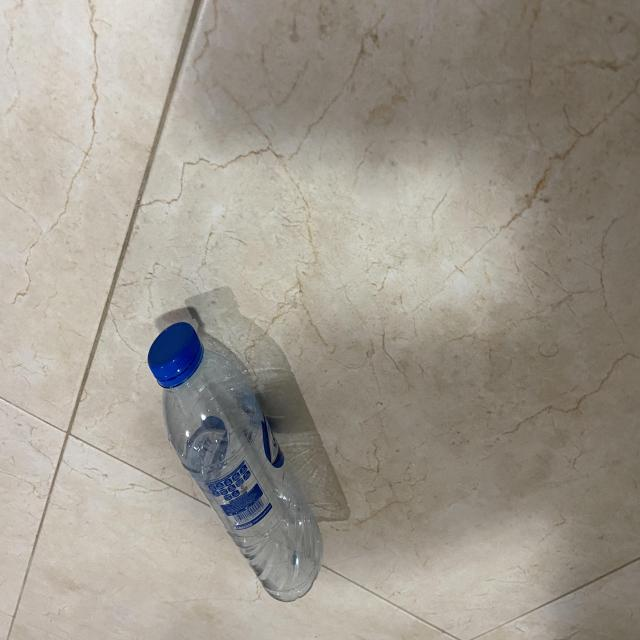plastic: (145, 316, 325, 604)
